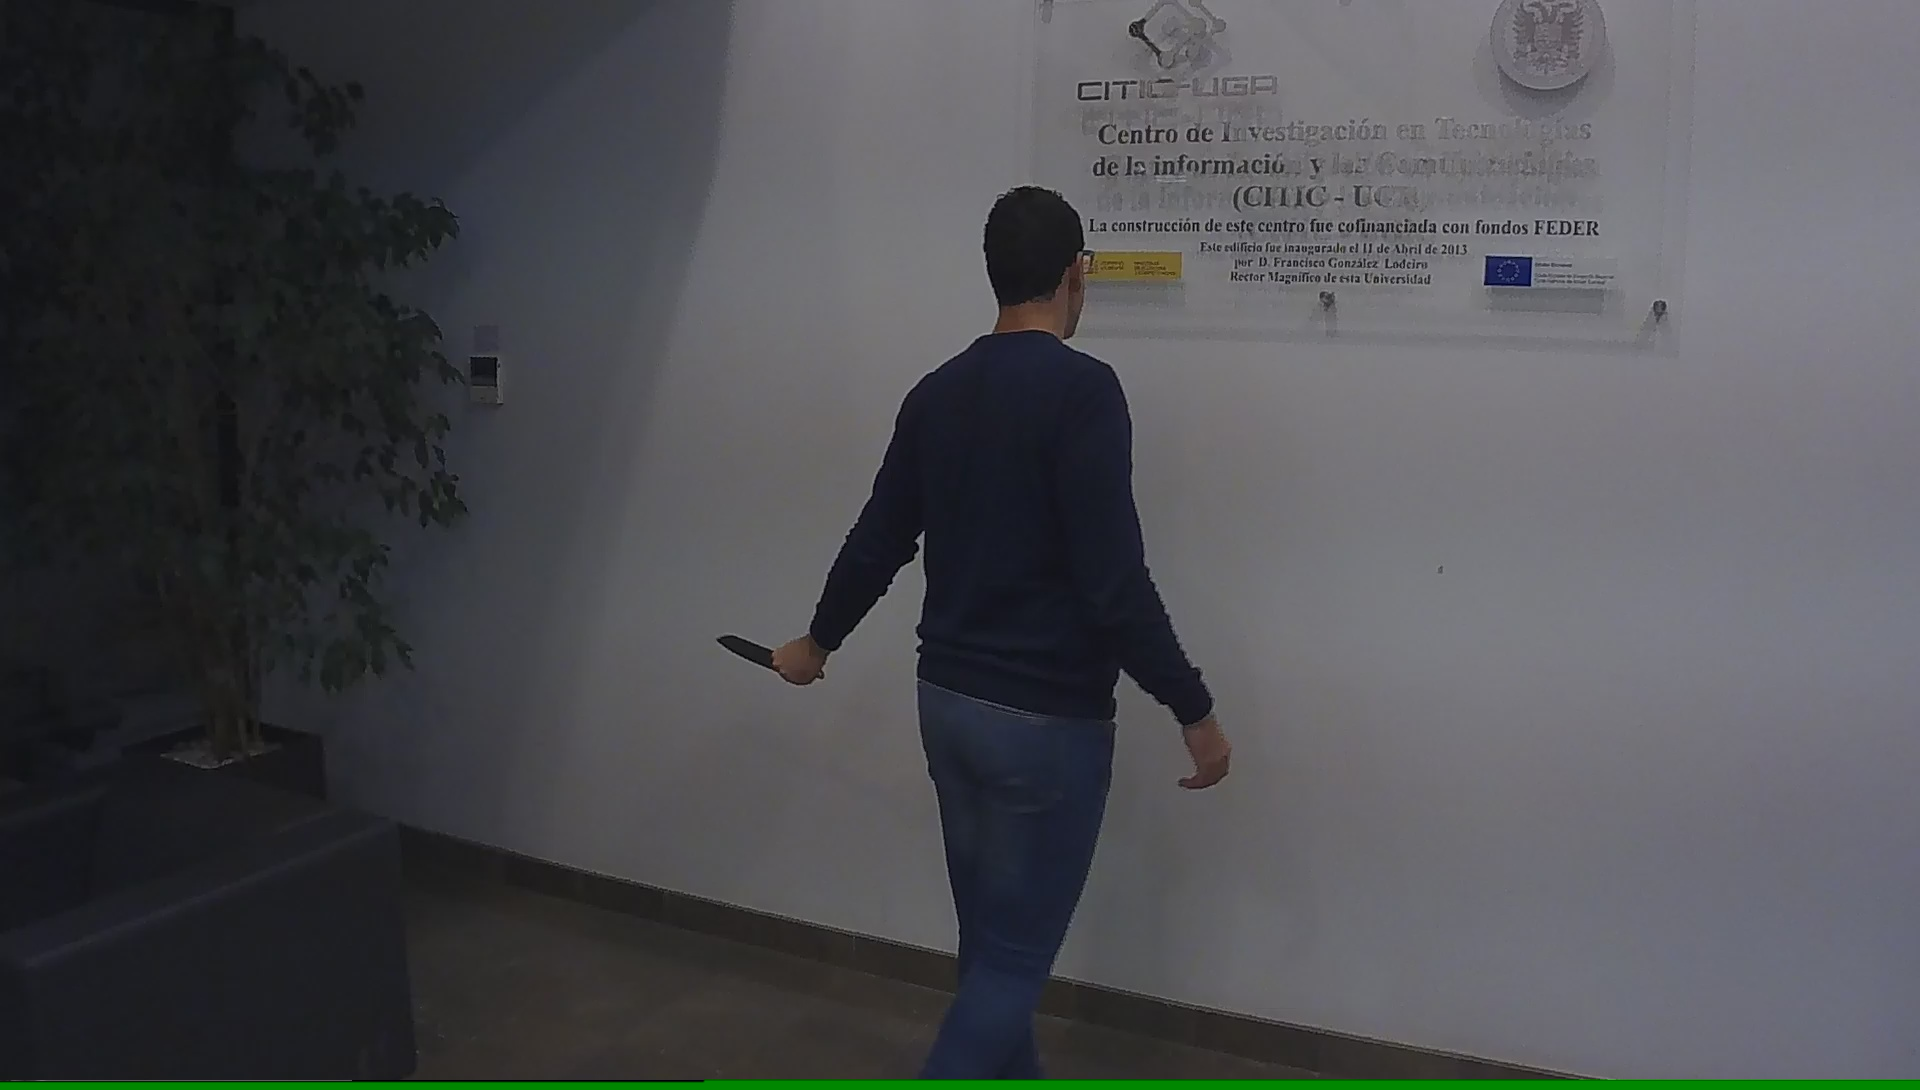knife: (708, 626, 808, 691)
